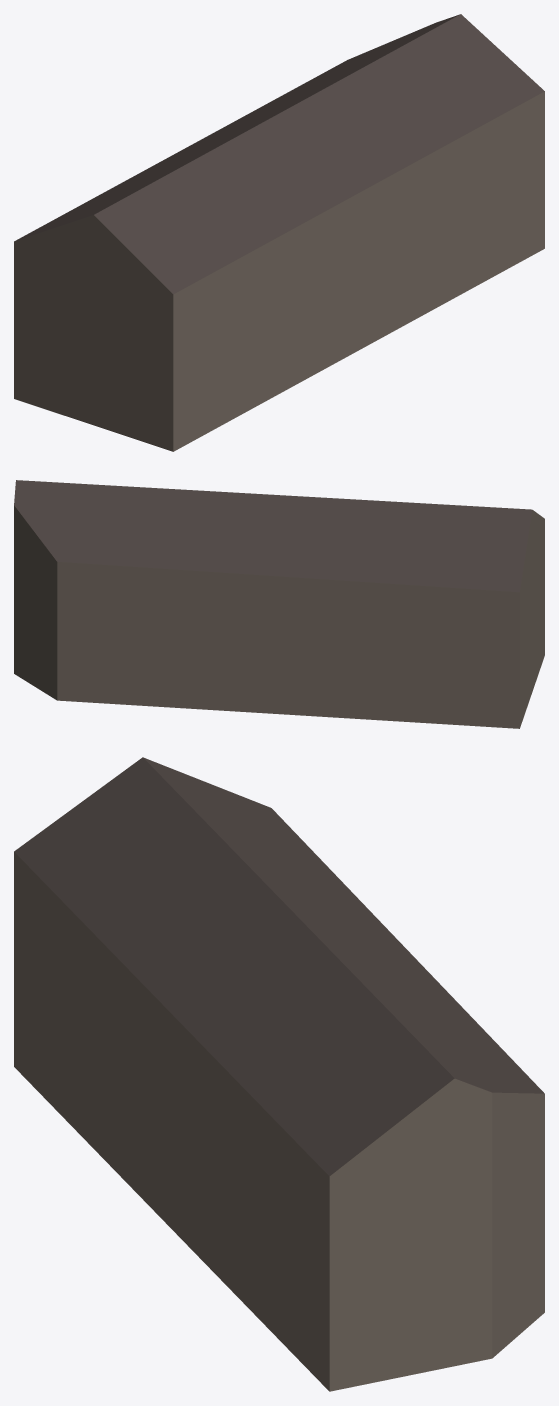
3 renders of one model, top to bottom at view 1: azimuth 30°, elevation 25°; view 2: azimuth 150°, elevation 25°; view 3: azimuth 270°, elevation 25°, orthographic. The views are drawn at different scales.
Parts seen in each view (by area): view 1: HP-w440024344; view 2: HP-w440024344; view 3: HP-w440024344.
Part boxes in pixels (<box>): HP-w440024344: <box>14,14,544,451</box>; HP-w440024344: <box>14,480,544,728</box>; HP-w440024344: <box>14,757,544,1391</box>.
Bounding box in the file's own units: 22.03 × 8.02 × 13.42.
